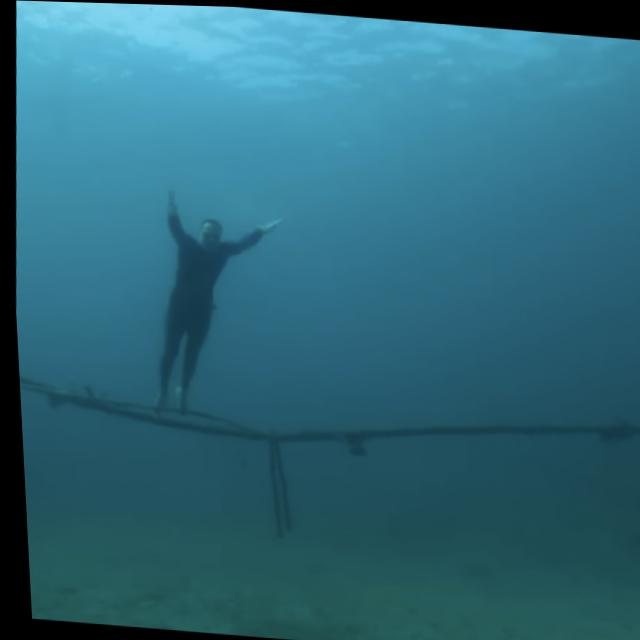human: (135, 174, 298, 431)
